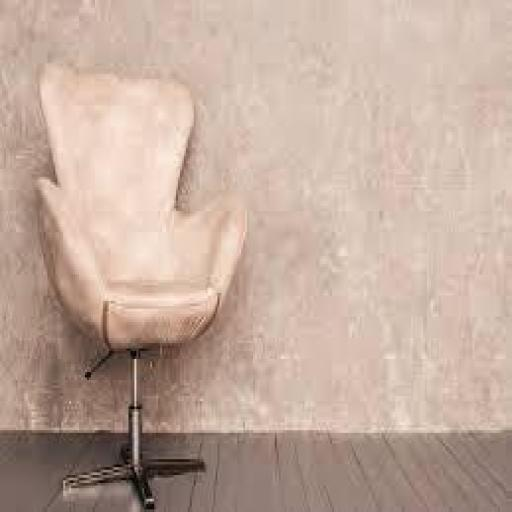chair: (27, 51, 248, 503)
